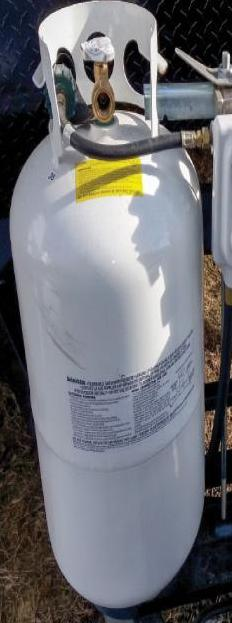cylinder: (1, 0, 232, 623)
